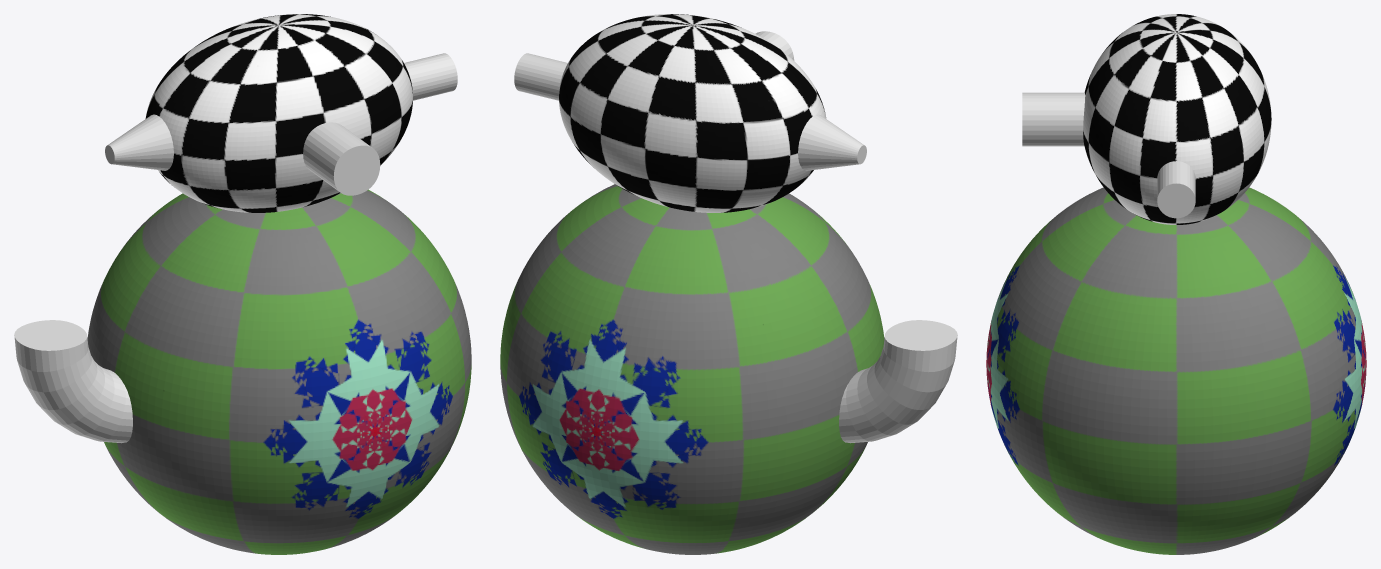
The model's file is BOD0_BMC0_BCC7_BPT4_FRC17_HEA1_HMC2_HCC1_HPT4_ELT2_ERT1_ELL0_ERL0_AP1_AAL1_AAR0_BEK1.fbx.
3 views of the same model, side by side, from view 1: azimuth 30°, elevation 25°; view 2: azimuth 150°, elevation 25°; view 3: azimuth 270°, elevation 25° (orthographic).
Visible parts, largest first — view 1: Body, Arm, Beak, Ear, Ear.001; view 2: Body, Arm, Ear, Ear.001; view 3: Body, Beak, Ear.001.
Part boxes in pixels (x1,y1,x2,y2): Body: (87, 14, 471, 554); Arm: (14, 320, 132, 443); Beak: (303, 122, 380, 195); Ear: (105, 114, 173, 170); Ear.001: (404, 53, 457, 100); Body: (500, 14, 884, 554); Arm: (839, 320, 957, 443); Ear: (798, 114, 866, 170); Ear.001: (514, 53, 567, 100); Body: (986, 14, 1366, 554); Beak: (1022, 92, 1085, 146); Ear.001: (1157, 161, 1195, 218).
Bounding box in the file's own units: 63.31 × 72.41 × 49.36.
1 material, 1 textured.
